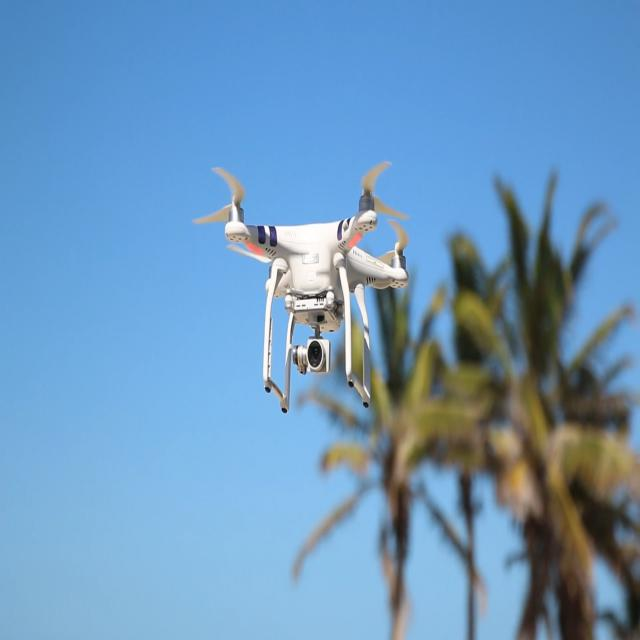Drone: (185, 150, 447, 419)
